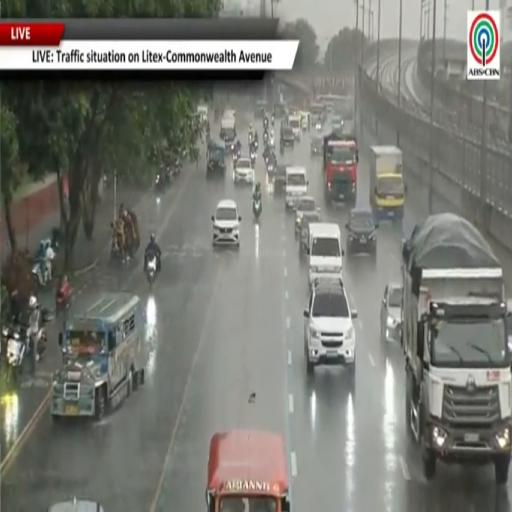car: (304, 278, 357, 375), (346, 208, 378, 255), (212, 200, 241, 246), (380, 283, 402, 342), (299, 212, 321, 257), (295, 197, 319, 232), (47, 499, 104, 511), (234, 156, 254, 184), (280, 123, 295, 152), (274, 165, 286, 194), (311, 136, 323, 156)
jeepney: (51, 293, 148, 420), (206, 429, 290, 511)
motorcycle: (2, 326, 26, 376), (31, 259, 49, 288), (56, 281, 72, 313), (146, 254, 157, 286), (155, 173, 167, 194), (253, 197, 261, 219), (233, 150, 241, 165), (267, 160, 275, 173), (263, 130, 269, 145), (251, 152, 256, 167), (248, 133, 253, 147), (269, 138, 275, 149), (264, 118, 268, 131), (271, 115, 275, 126)
truck: (401, 214, 511, 485), (369, 146, 405, 221), (323, 132, 359, 204), (220, 115, 236, 152)
